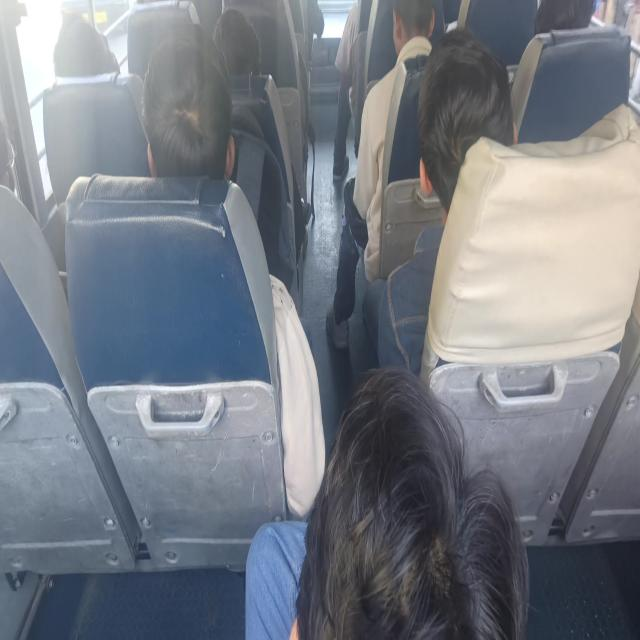person: (140, 22, 326, 519), (244, 364, 530, 638), (419, 102, 639, 381), (362, 26, 517, 377), (140, 22, 295, 294), (325, 0, 436, 352), (140, 24, 235, 180), (332, 0, 397, 181), (53, 12, 120, 78), (212, 8, 261, 76), (533, 0, 597, 34)
